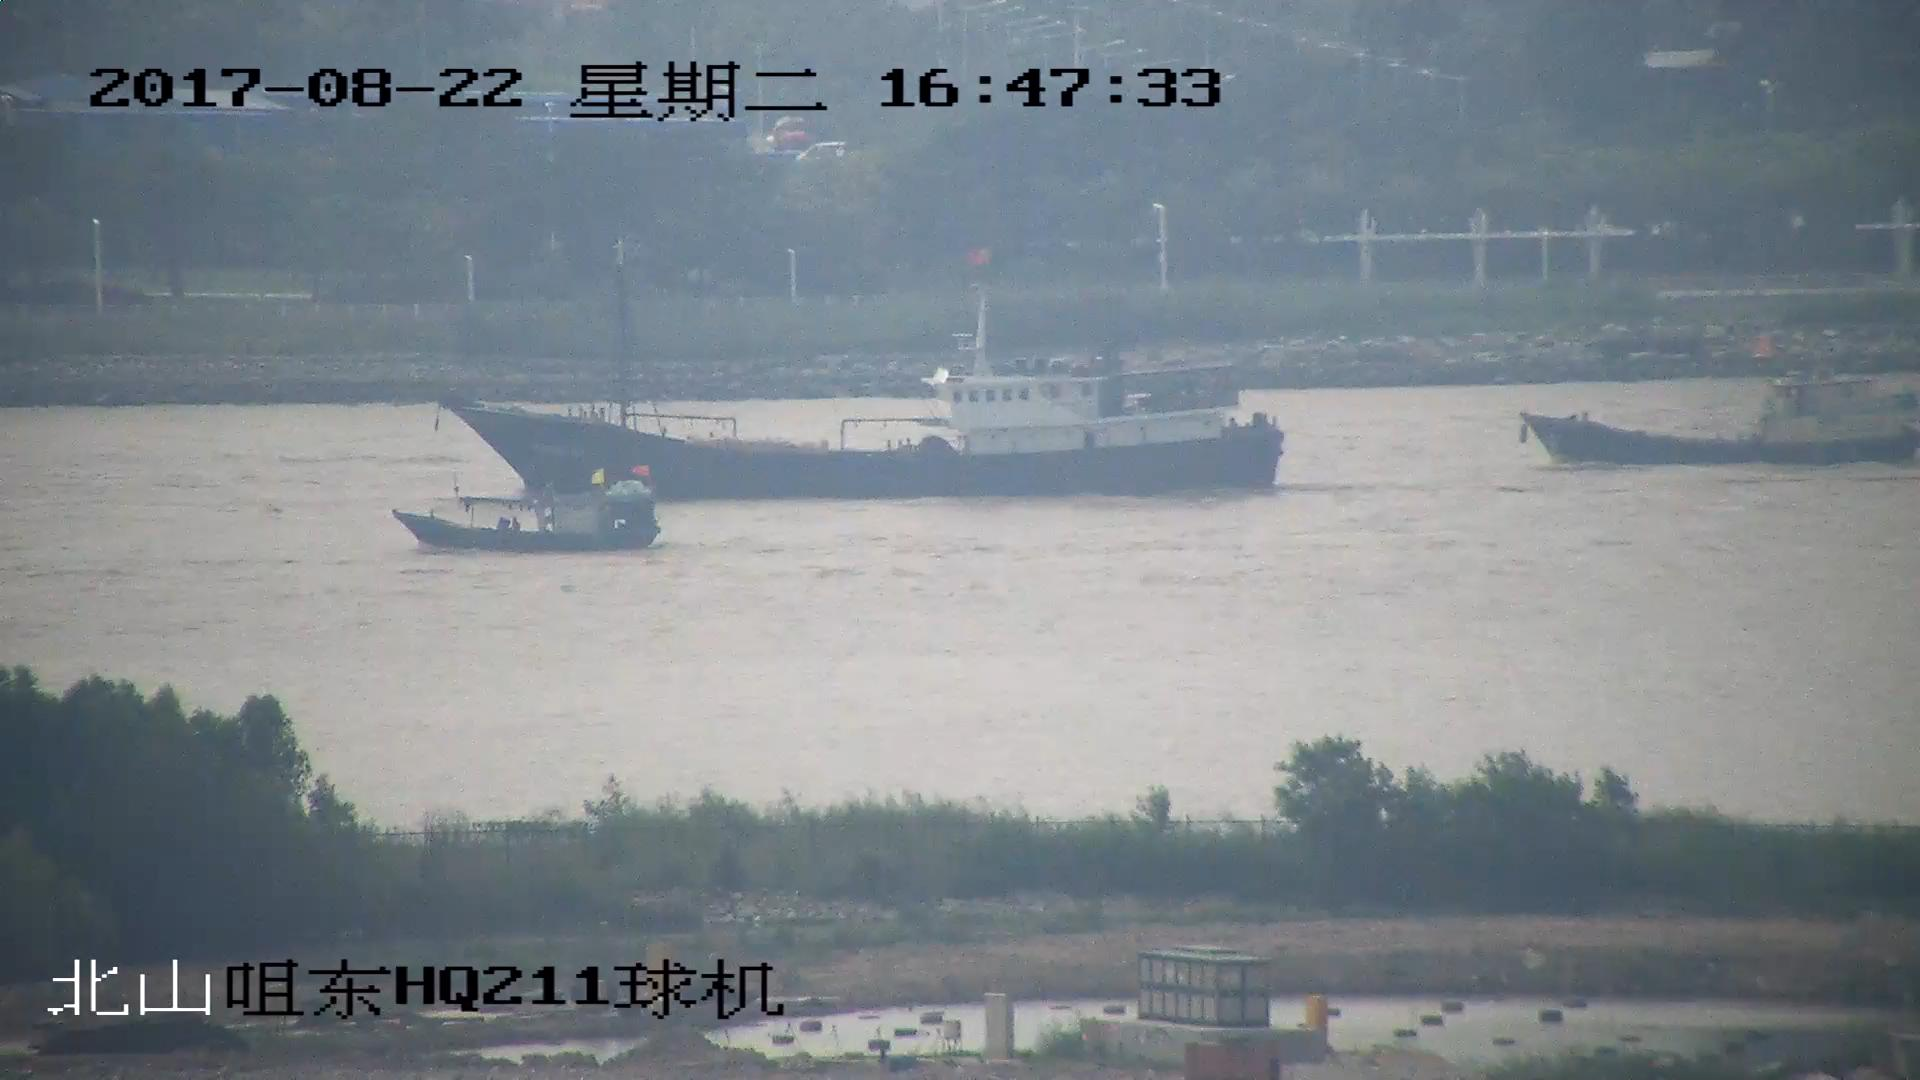fishing boat: (442, 227, 1285, 491), (1525, 341, 1920, 463), (393, 467, 657, 554)
